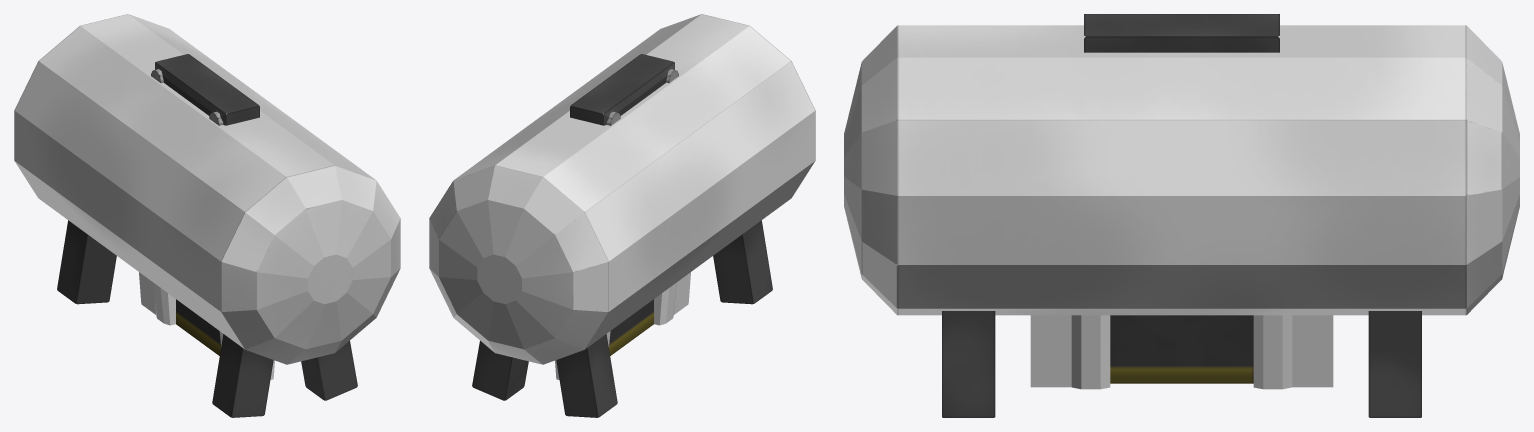
The model's file is military props2.fbx.
The picture shows the model from 3 angles, left to right: view 1: azimuth 30°, elevation 25°; view 2: azimuth 150°, elevation 25°; view 3: azimuth 270°, elevation 25°; orthographic projection. The views are drawn at different scales.
Parts seen in each view (by area): view 1: cylinder_4, core, cuboid_1, cuboid, cuboid_2, cuboid_4, cuboid_5; view 2: cylinder_4, core, cuboid, cuboid_1, cuboid_3, cuboid_4, cuboid_5; view 3: cylinder_4, cuboid_4, cuboid_5, core, cuboid_2, cuboid_3.
Boxes of the visible parts, x1,y1,x2,y2 form: cylinder_4: [14, 14, 400, 364]; core: [155, 54, 259, 125]; cuboid_1: [212, 334, 273, 417]; cuboid: [57, 220, 116, 304]; cuboid_2: [301, 341, 357, 400]; cuboid_4: [139, 212, 274, 379]; cuboid_5: [176, 299, 220, 355]; cylinder_4: [429, 14, 815, 364]; core: [570, 54, 674, 125]; cuboid: [556, 334, 617, 417]; cuboid_1: [713, 220, 772, 304]; cuboid_3: [472, 341, 528, 400]; cuboid_4: [555, 212, 690, 379]; cuboid_5: [609, 299, 653, 355]; cylinder_4: [844, 25, 1519, 315]; cuboid_4: [1030, 315, 1333, 389]; cuboid_5: [1110, 315, 1253, 383]; core: [1084, 14, 1279, 52]; cuboid_2: [942, 311, 995, 417]; cuboid_3: [1368, 311, 1421, 417].
Size of the model in its own units: 100 by 139 by 238.
Materials: 3 (3 with a texture image).
